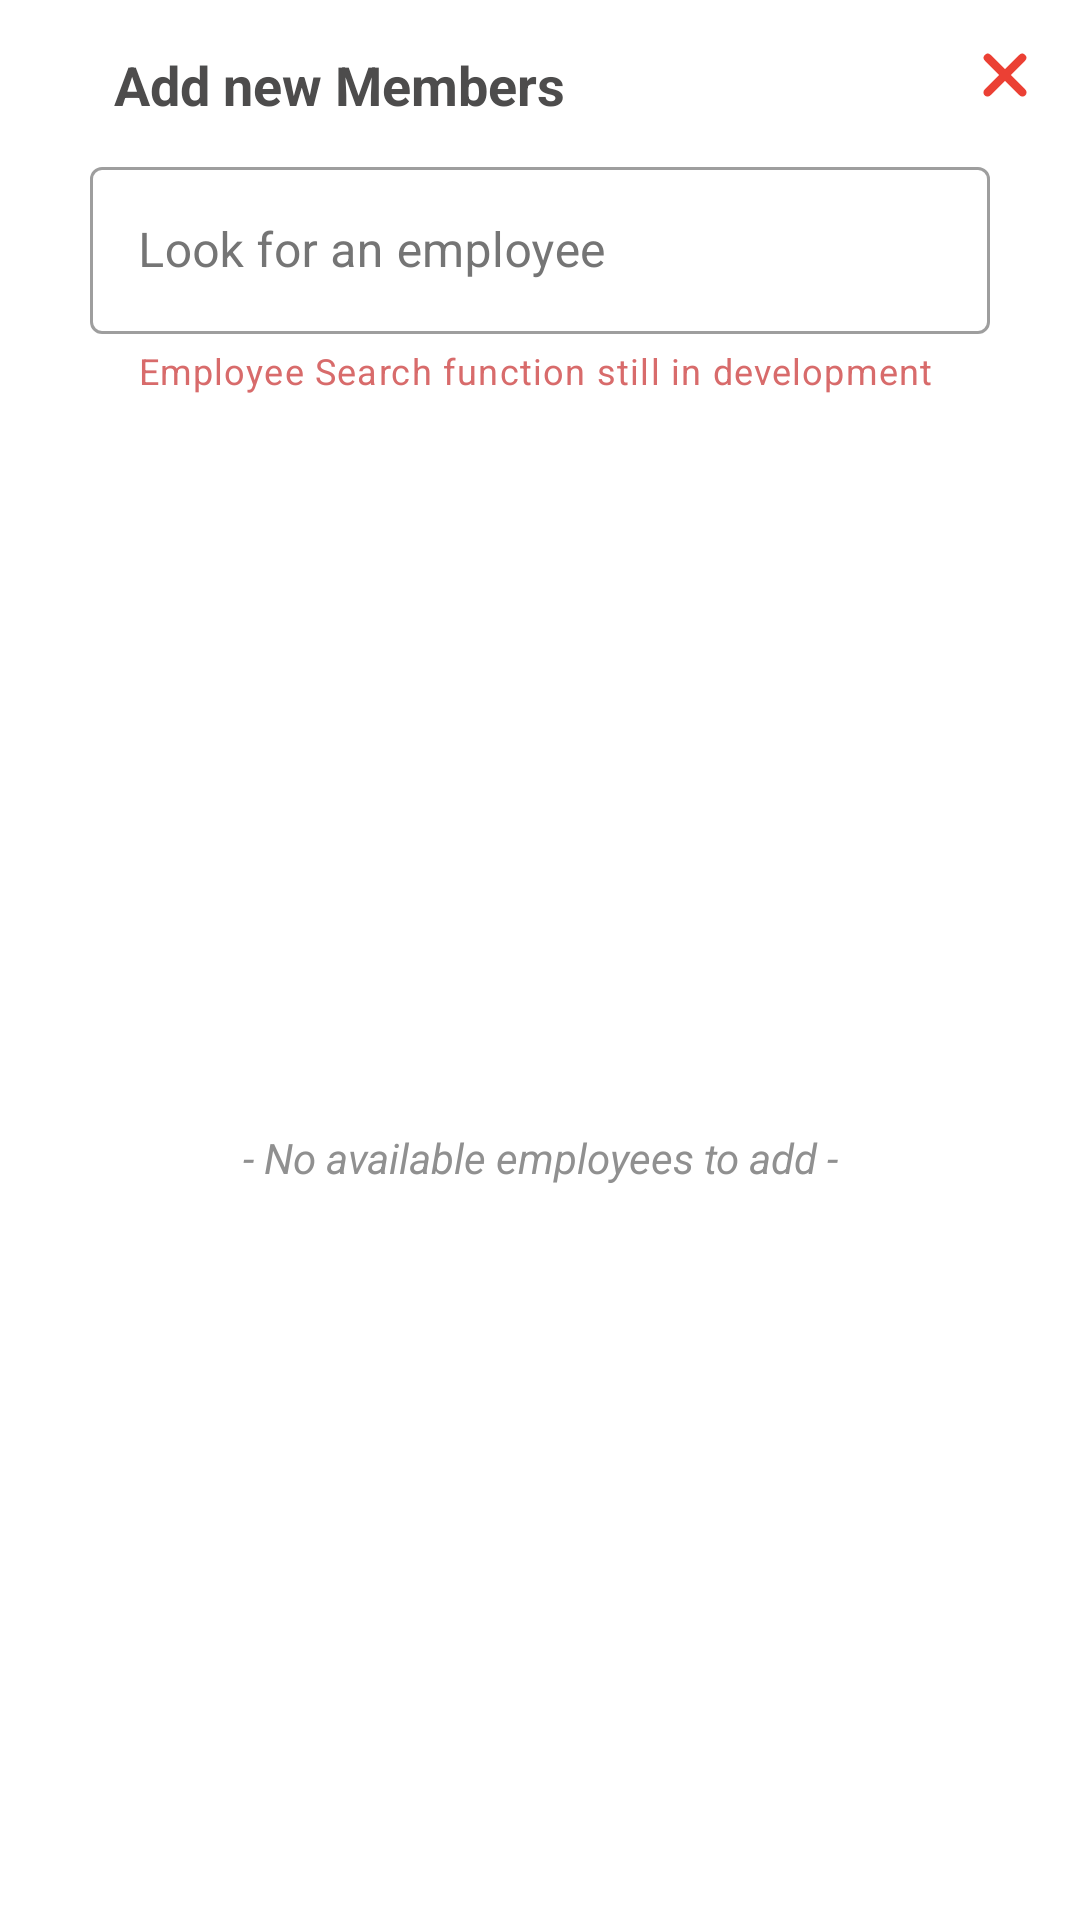

Screen size 1080w x 1920h. Icon name, then its box in pixels as {"left": x1, "top": y1, "right": x2, "bottom": y2}:
close: {"left": 983, "top": 53, "right": 1027, "bottom": 97}
